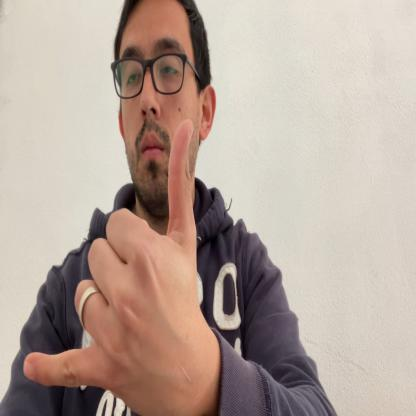Y: (22, 119, 205, 416)
